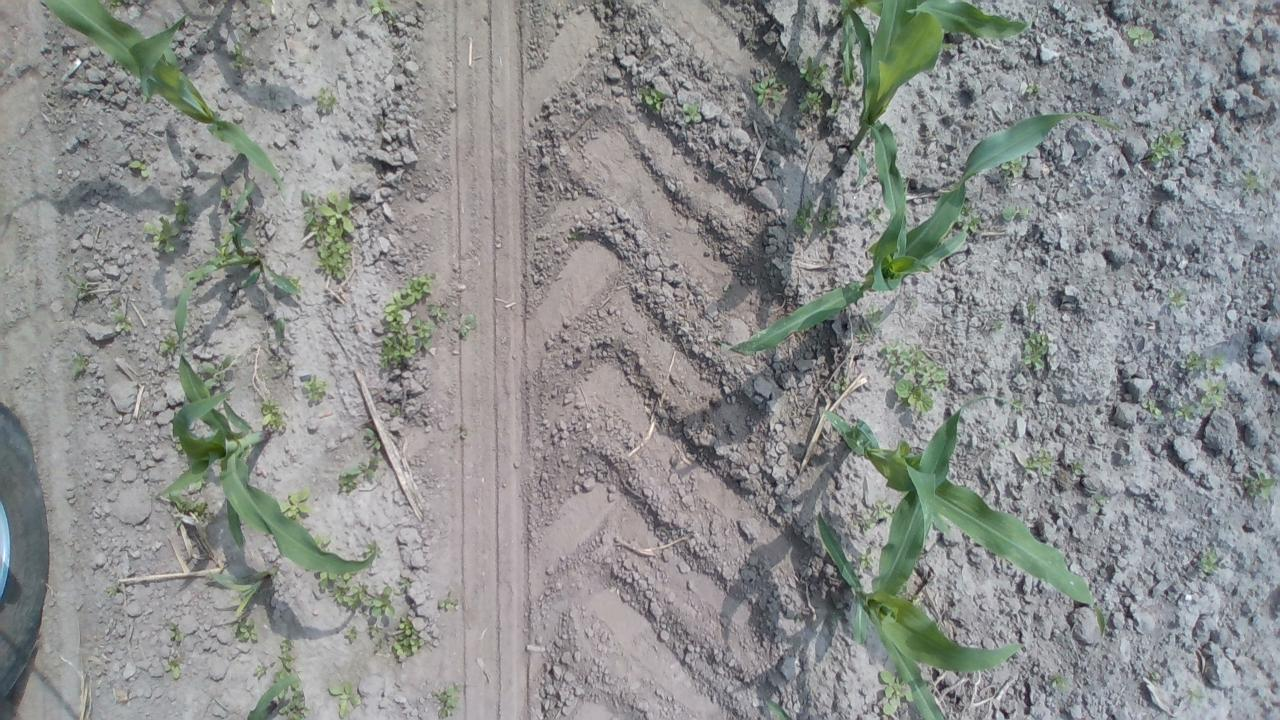Maize: (724, 110, 1127, 358), (824, 395, 1108, 645), (40, 0, 292, 206), (157, 354, 379, 575), (815, 510, 1025, 720), (174, 174, 306, 352), (848, 0, 945, 186), (838, 0, 1031, 86), (209, 568, 268, 622), (248, 673, 300, 720), (764, 696, 795, 720)
Weeds: (378, 274, 449, 370), (302, 187, 357, 281), (879, 339, 948, 412), (319, 570, 397, 618), (143, 199, 191, 255), (370, 616, 426, 660), (1176, 381, 1228, 422), (799, 55, 830, 113), (338, 455, 381, 493), (880, 670, 914, 716), (793, 196, 833, 235), (170, 490, 208, 530), (1148, 127, 1186, 164), (328, 680, 362, 720), (278, 681, 312, 720), (278, 485, 314, 519), (752, 70, 785, 106), (1020, 332, 1050, 370), (258, 398, 289, 434), (1024, 450, 1058, 482), (862, 500, 894, 534), (432, 680, 459, 720), (202, 354, 232, 389), (1242, 472, 1278, 499), (63, 273, 93, 304), (956, 202, 984, 232), (1125, 23, 1156, 50), (276, 640, 295, 680), (1186, 351, 1226, 369), (304, 373, 328, 402), (640, 85, 664, 112), (1000, 157, 1030, 178), (232, 620, 260, 642), (454, 312, 476, 336), (112, 312, 138, 332), (900, 585, 921, 609), (316, 87, 336, 112), (229, 43, 247, 70), (70, 352, 88, 378), (162, 656, 182, 679), (682, 101, 702, 124), (1200, 548, 1219, 572), (1141, 397, 1164, 416), (128, 160, 152, 178), (368, 0, 394, 16), (865, 304, 881, 330), (1246, 173, 1266, 192), (364, 428, 381, 450), (1052, 673, 1074, 690), (160, 334, 177, 354), (1166, 289, 1186, 306), (1091, 492, 1108, 511), (832, 375, 850, 392), (215, 244, 228, 266), (169, 622, 183, 642), (314, 535, 330, 552), (344, 626, 360, 643), (270, 317, 288, 332), (859, 552, 874, 570), (365, 543, 381, 559), (218, 185, 234, 201), (866, 206, 880, 224), (1026, 81, 1042, 96), (1001, 206, 1014, 224), (288, 276, 304, 290), (1070, 463, 1086, 477), (1186, 688, 1200, 704), (104, 582, 118, 597), (991, 320, 1006, 333), (439, 600, 458, 610), (566, 227, 580, 240), (388, 404, 402, 416), (254, 666, 268, 678), (174, 435, 184, 451), (1026, 302, 1038, 314), (1012, 400, 1026, 410), (256, 0, 274, 7), (830, 102, 840, 114), (855, 332, 866, 342), (38, 42, 48, 52), (110, 298, 118, 308), (140, 94, 148, 104), (110, 0, 122, 6), (1152, 671, 1160, 680)
